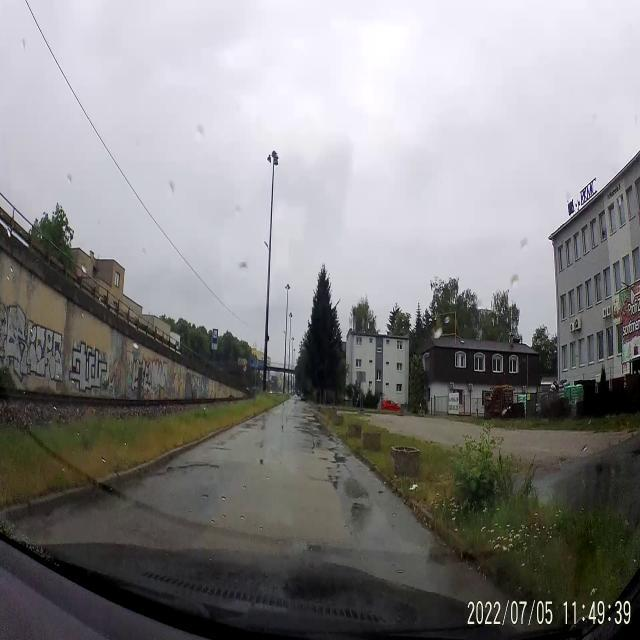Pothole: (157, 458, 224, 484), (324, 466, 340, 486), (308, 433, 320, 456), (212, 442, 232, 452), (318, 456, 329, 462)
